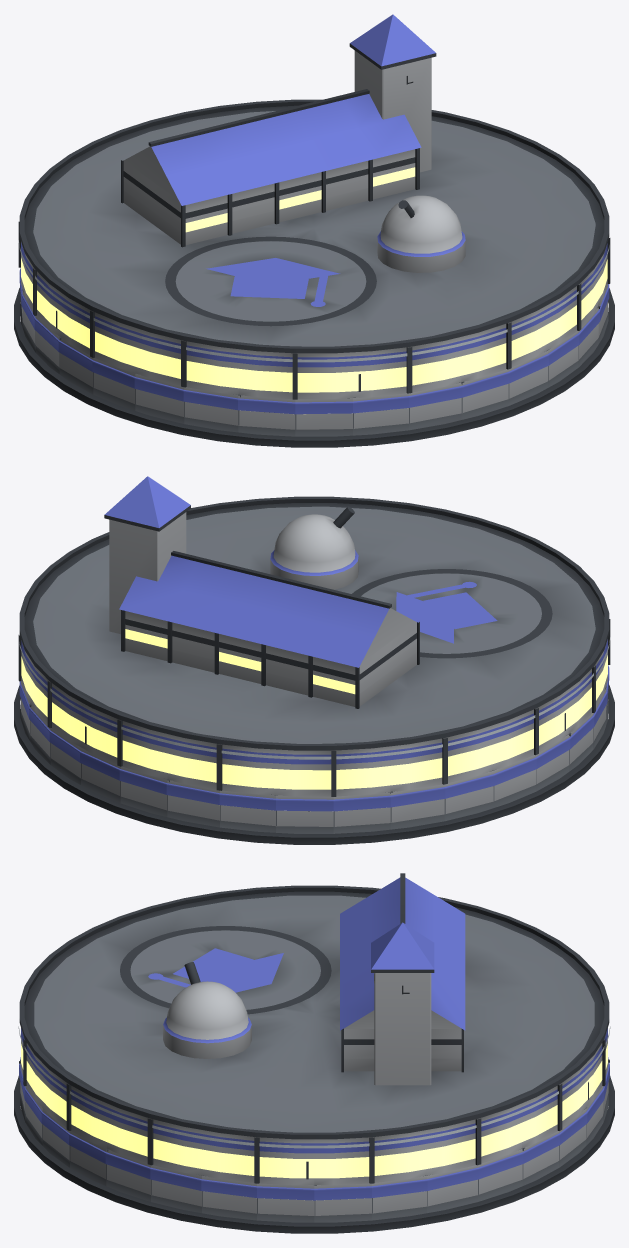
Rendered from academy_l_far.glb.
3 views of the same model, one above another, from view 1: azimuth 30°, elevation 25°; view 2: azimuth 150°, elevation 25°; view 3: azimuth 270°, elevation 25° (orthographic).
Parts seen in each view (by area): view 1: Roof, Base; view 2: Roof, Base; view 3: Roof, Base.
Part boxes in pixels (bbox=[...]): Roof: bbox=[18, 14, 610, 399]; Base: bbox=[14, 268, 614, 447]; Roof: bbox=[18, 476, 610, 796]; Base: bbox=[14, 665, 614, 844]; Roof: bbox=[18, 873, 610, 1185]; Base: bbox=[14, 1057, 614, 1233].
Bounding box in the file's own units: 18.96 × 8.5 × 18.96.
